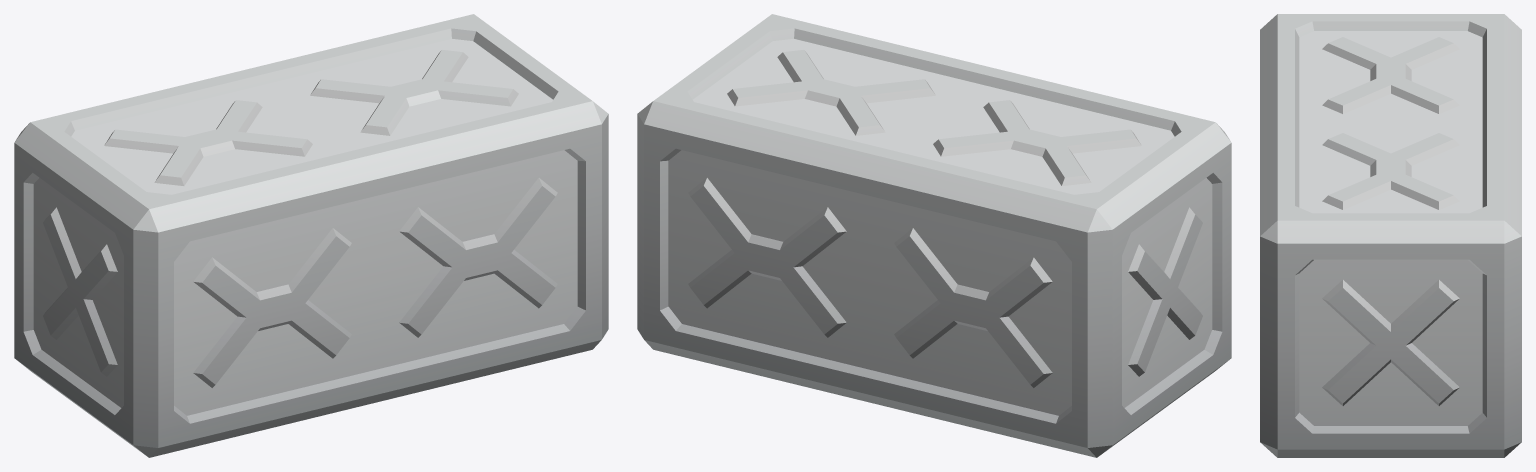
The picture shows the model from 3 angles, left to right: view 1: azimuth 30°, elevation 25°; view 2: azimuth 150°, elevation 25°; view 3: azimuth 270°, elevation 25°; orthographic projection. The views are drawn at different scales.
Parts seen in each view (by area): view 1: Box_007; view 2: Box_007; view 3: Box_007.
Part boxes in pixels (bbox=[...]): Box_007: bbox=[14, 14, 608, 457]; Box_007: bbox=[637, 14, 1231, 457]; Box_007: bbox=[1260, 14, 1521, 457].
Size of the model in its own units: 120 by 60 by 60.
